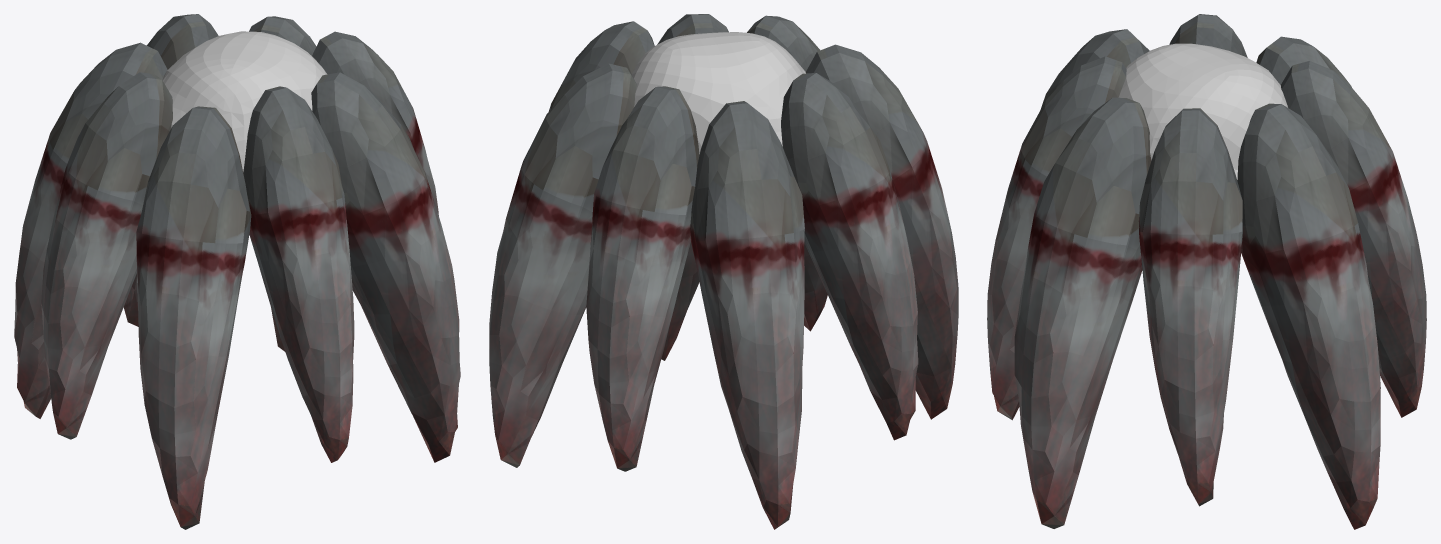
Rendered from mouth.fbx.
The picture shows the model from 3 angles, left to right: view 1: azimuth 30°, elevation 25°; view 2: azimuth 150°, elevation 25°; view 3: azimuth 270°, elevation 25°; orthographic projection. The views are drawn at different scales.
Visible parts, largest first — view 1: Back02.001, Right02.001, Right02, Back02, Left02.001, Cube, Front02, Left02, Front02.001; view 2: Left02.001, Front02.001, Left02, Back02, Back02.001, Cube, Front02, Right02, Right02.001; view 3: Front02.001, Right02.001, Front02, Left02, Right02, Cube, Back02.001, Left02.001, Back02.
Part boxes in pixels (left/top/right/bottom): Back02.001: left=136, top=106, right=251, bottom=529; Right02.001: left=311, top=72, right=460, bottom=462; Right02: left=243, top=86, right=354, bottom=462; Back02: left=41, top=72, right=172, bottom=439; Left02.001: left=14, top=42, right=167, bottom=418; Cube: left=162, top=31, right=327, bottom=171; Front02: left=312, top=31, right=438, bottom=215; Left02: left=123, top=14, right=218, bottom=326; Front02.001: left=249, top=16, right=316, bottom=351; Left02.001: left=690, top=101, right=804, bottom=529; Front02.001: left=489, top=63, right=636, bottom=467; Left02: left=586, top=86, right=699, bottom=471; Back02: left=781, top=73, right=918, bottom=440; Back02.001: left=805, top=44, right=958, bottom=419; Cube: left=631, top=32, right=805, bottom=154; Front02: left=548, top=21, right=654, bottom=111; Right02: left=747, top=15, right=827, bottom=331; Right02.001: left=657, top=14, right=728, bottom=360; Front02.001: left=1237, top=103, right=1380, bottom=529; Right02.001: left=1014, top=97, right=1151, bottom=528; Front02: left=1138, top=108, right=1242, bottom=506; Left02: left=1281, top=61, right=1426, bottom=417; Right02: left=987, top=56, right=1126, bottom=420; Cube: left=1118, top=43, right=1287, bottom=179; Back02.001: left=1040, top=29, right=1149, bottom=109; Left02.001: left=1256, top=36, right=1351, bottom=87; Back02: left=1169, top=14, right=1247, bottom=57.
Bounding box in the file's own units: 67.95 × 66.47 × 64.88.
